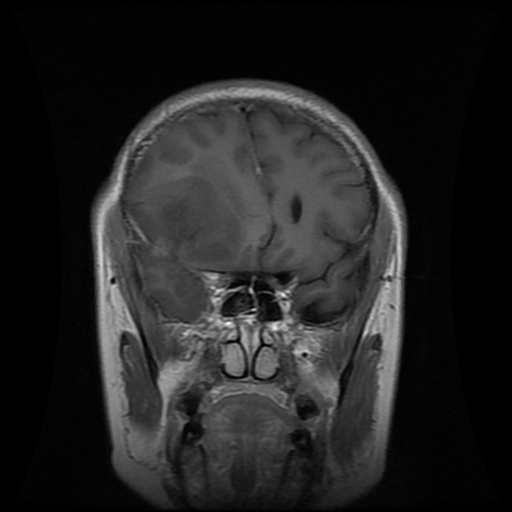glioma: (130, 176, 242, 263)
